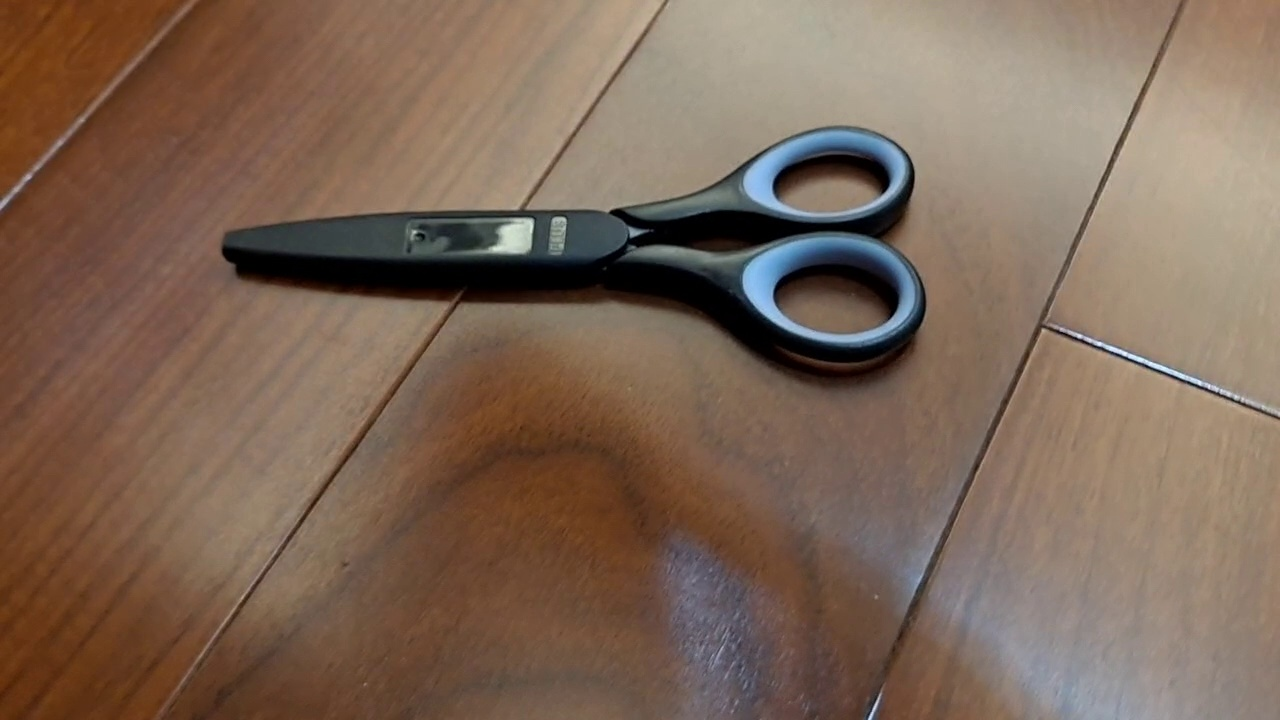scissors: (219, 123, 928, 365)
